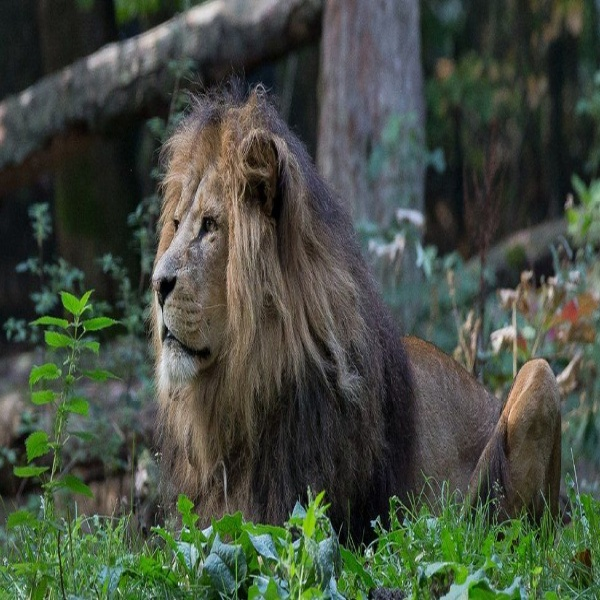Lion: (144, 85, 570, 552)
